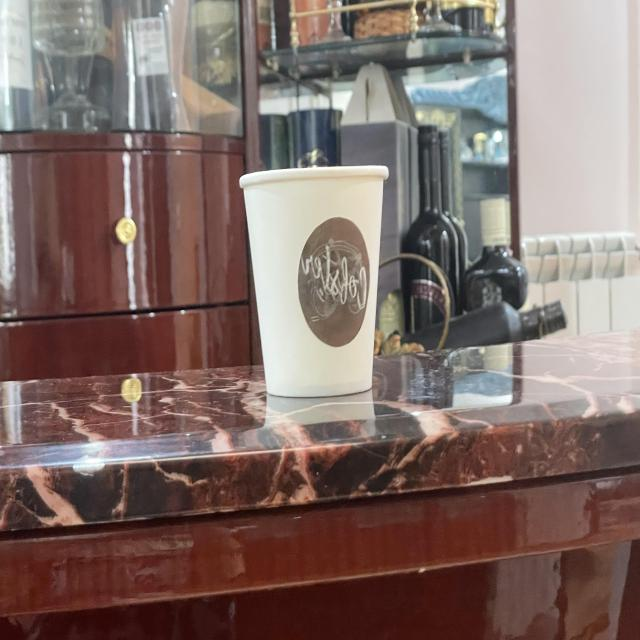small: (235, 157, 397, 404)
